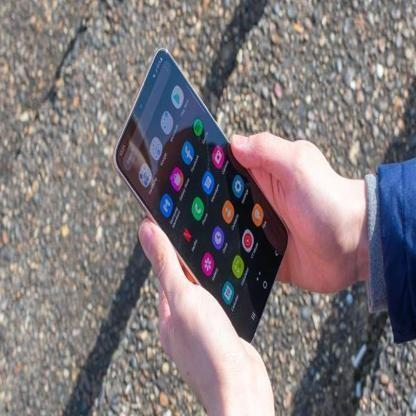not trash: (120, 52, 296, 336)
